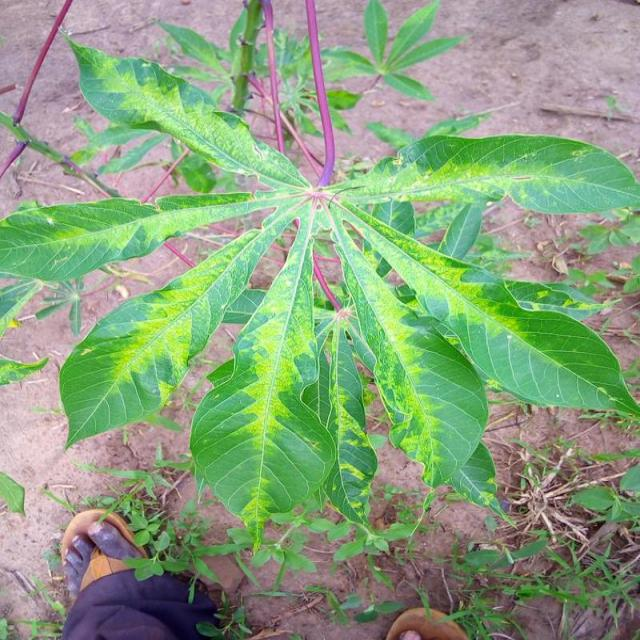cassava leaf: (6, 1, 638, 553), (188, 203, 339, 552), (57, 23, 311, 192)
